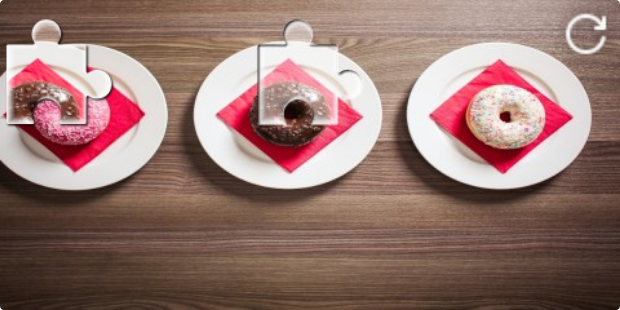target: (258, 19, 363, 126)
